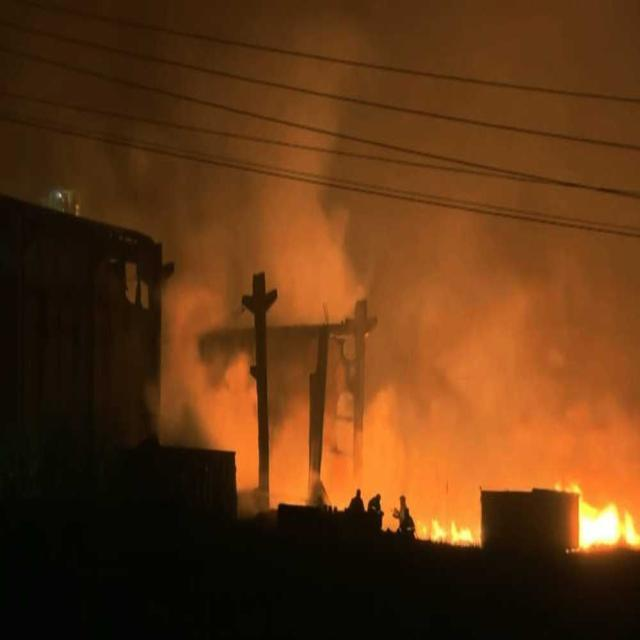Fire: (554, 480, 640, 556), (413, 515, 475, 547)
Smoke: (76, 31, 640, 549)
